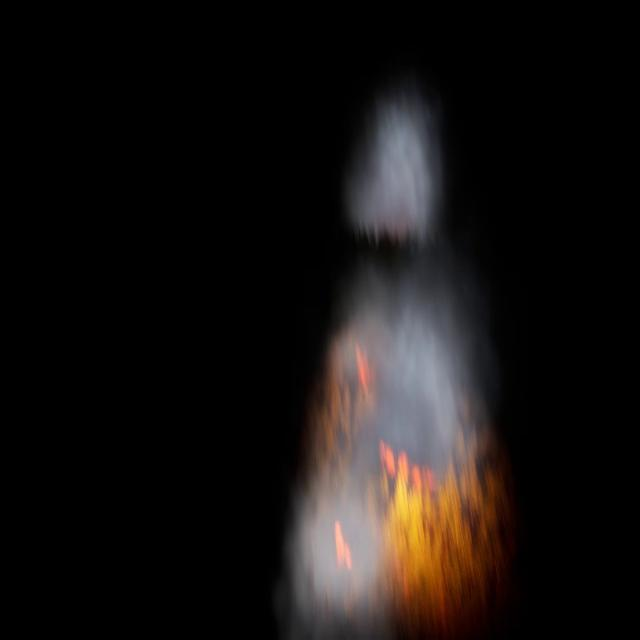fire: (378, 438, 502, 615), (350, 342, 381, 402), (333, 512, 354, 575)
smoke: (283, 83, 496, 630)
